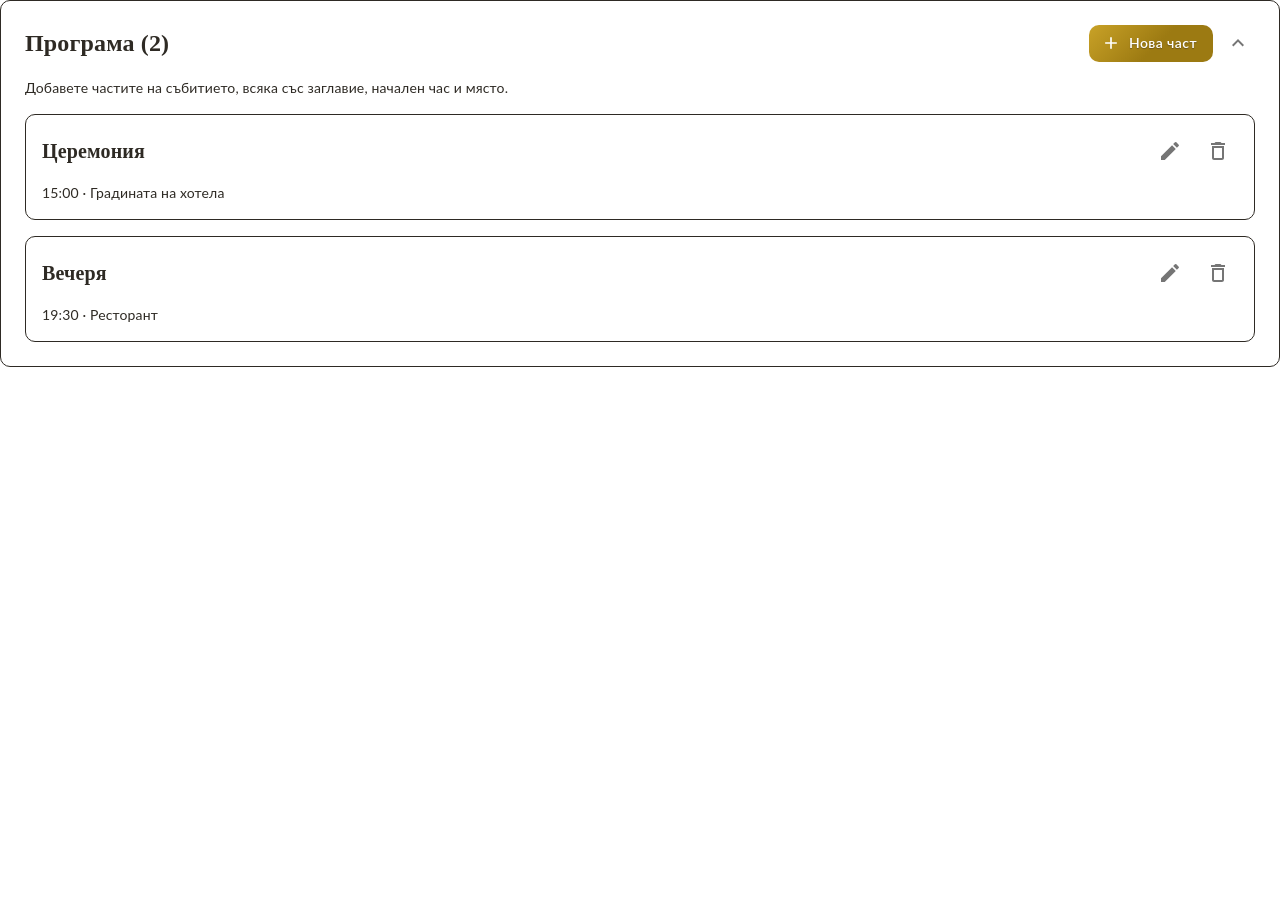
Scenario: SchedulePanel › edits a part and moves it by its new hour
Later steps or results of the test are not shown.
Click the button named "Редактирай Церемония" at [1170, 150], box x1=1150 y1=130 x2=1190 y2=170
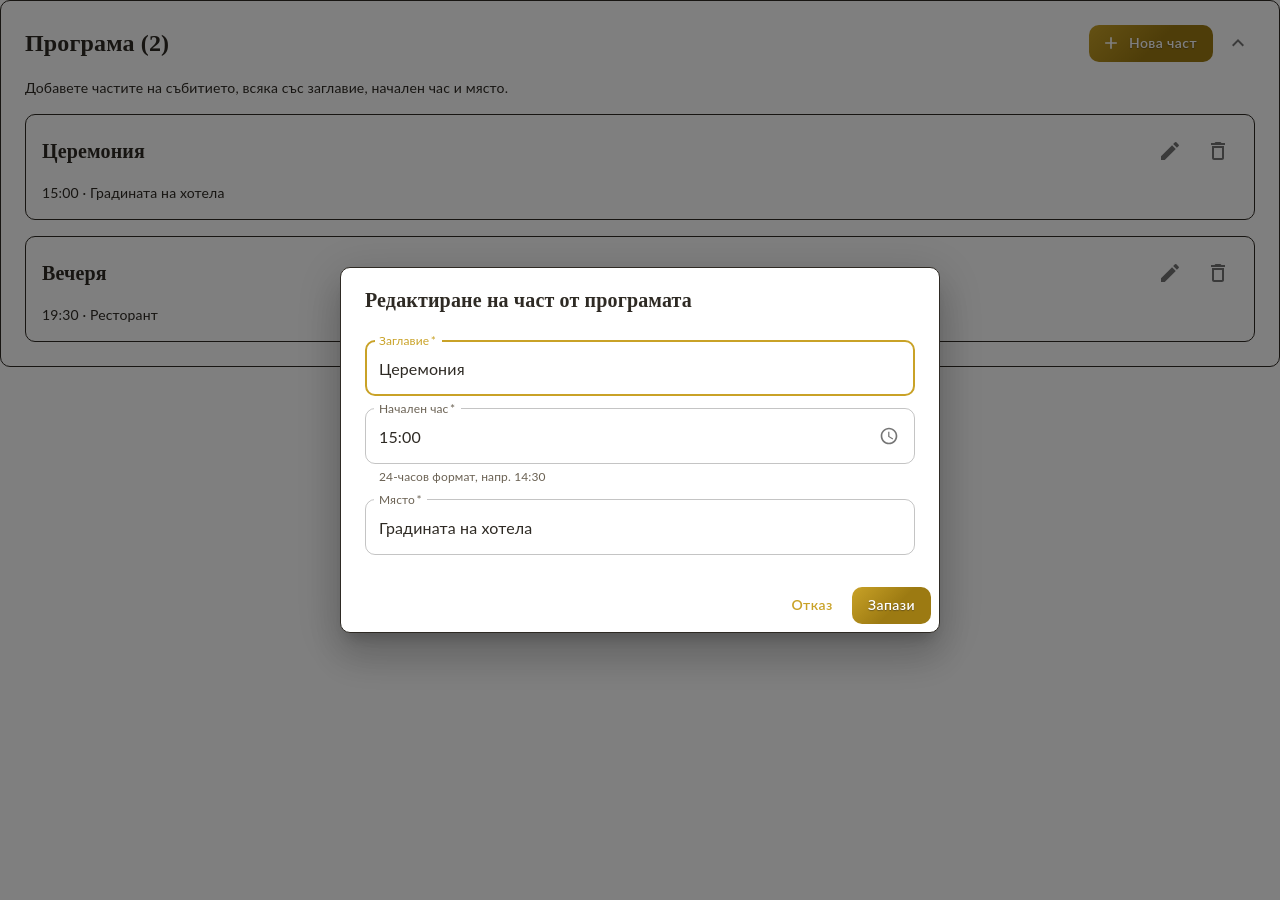
Now the field labelled "Начален час *" holds "15:00", box x1=365 y1=408 x2=866 y2=464
